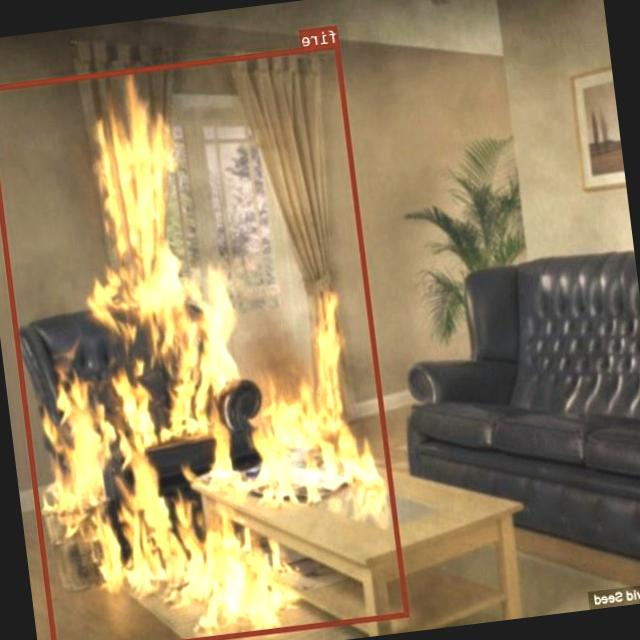fire: (0, 42, 410, 640)
